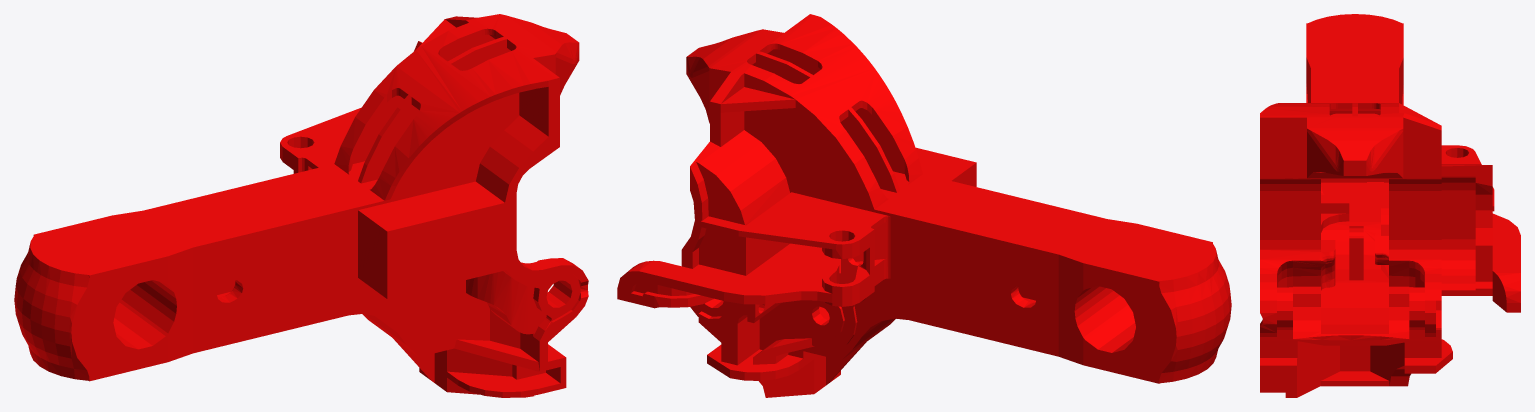
File: power_cart_buffera1_visuals_buffera1_mesh.obj
3 views of the same model, side by side, from view 1: azimuth 30°, elevation 25°; view 2: azimuth 150°, elevation 25°; view 3: azimuth 270°, elevation 25° (orthographic). The views are drawn at different scales.
Size of the model in its own units: 0.9727 by 0.555 by 0.46.
